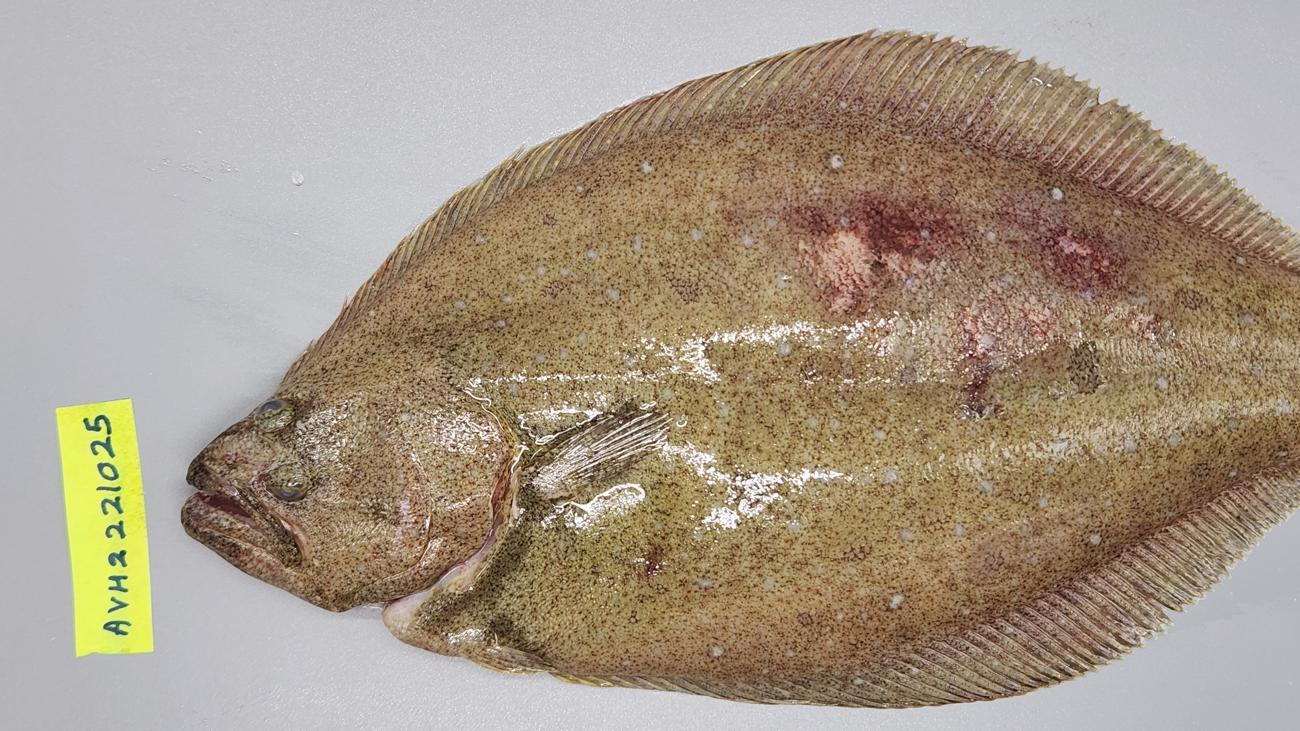VIDYH: (796, 352, 859, 414)
VIDYU: (776, 182, 1212, 432)
